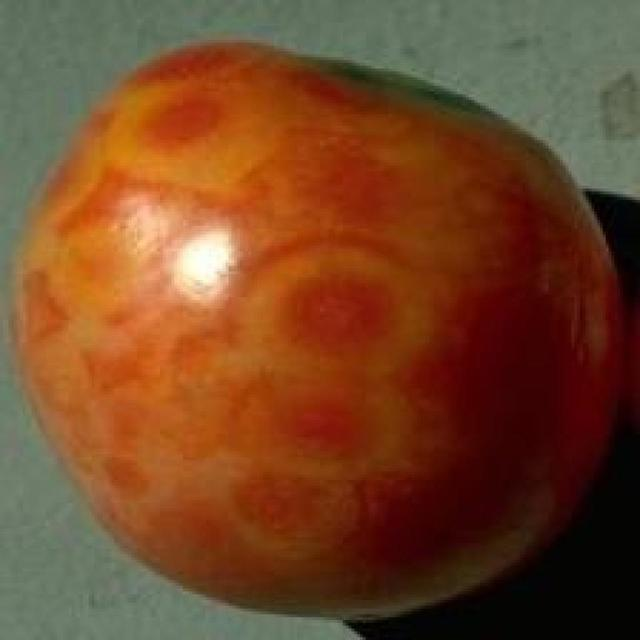Spotted wilt Virus Fruit: (10, 29, 413, 415)
